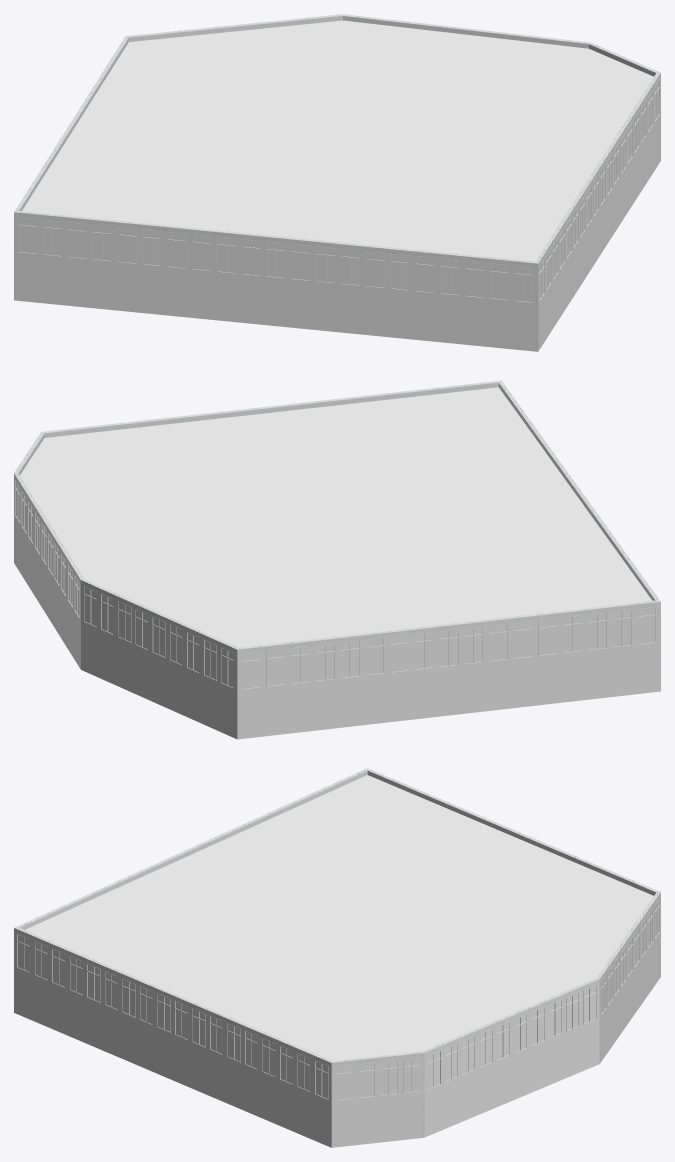
Rendered from clohc3cqp03jt4p020xlihxqc_0.glb.
3 renders of one model, top to bottom at view 1: azimuth 30°, elevation 25°; view 2: azimuth 150°, elevation 25°; view 3: azimuth 270°, elevation 25°, orthographic. The views are drawn at different scales.
Parts seen in each view (by area): view 1: mesh_CityEnginePBRShader, mesh_Glass, mesh_Wall, _2 (×21), mesh_Brick; view 2: mesh_CityEnginePBRShader, mesh_Glass, mesh_Wall, mesh_Brick, _2 (×17); view 3: mesh_CityEnginePBRShader, mesh_Glass, mesh_Wall, mesh_Brick, _2 (×2).
Boxes of the visible parts, box(x1,y1,x2,y2) form: mesh_CityEnginePBRShader: box(14, 20, 660, 351); mesh_Glass: box(18, 117, 659, 349); mesh_Wall: box(15, 78, 660, 349); _2 (×21): box(19, 218, 532, 302); mesh_Brick: box(14, 14, 660, 349); mesh_CityEnginePBRShader: box(14, 387, 660, 739); mesh_Glass: box(15, 518, 656, 736); mesh_Wall: box(14, 479, 659, 737); mesh_Brick: box(14, 380, 660, 737); _2 (×17): box(242, 607, 655, 688); mesh_CityEnginePBRShader: box(14, 775, 660, 1147); mesh_Glass: box(17, 935, 659, 1145); mesh_Wall: box(15, 897, 660, 1145); mesh_Brick: box(14, 768, 660, 1145); _2 (×2): box(336, 1063, 374, 1100).
Size of the model in its own units: 86.19 by 11.57 by 79.92.
Materials: 5 (1 with a texture image).
